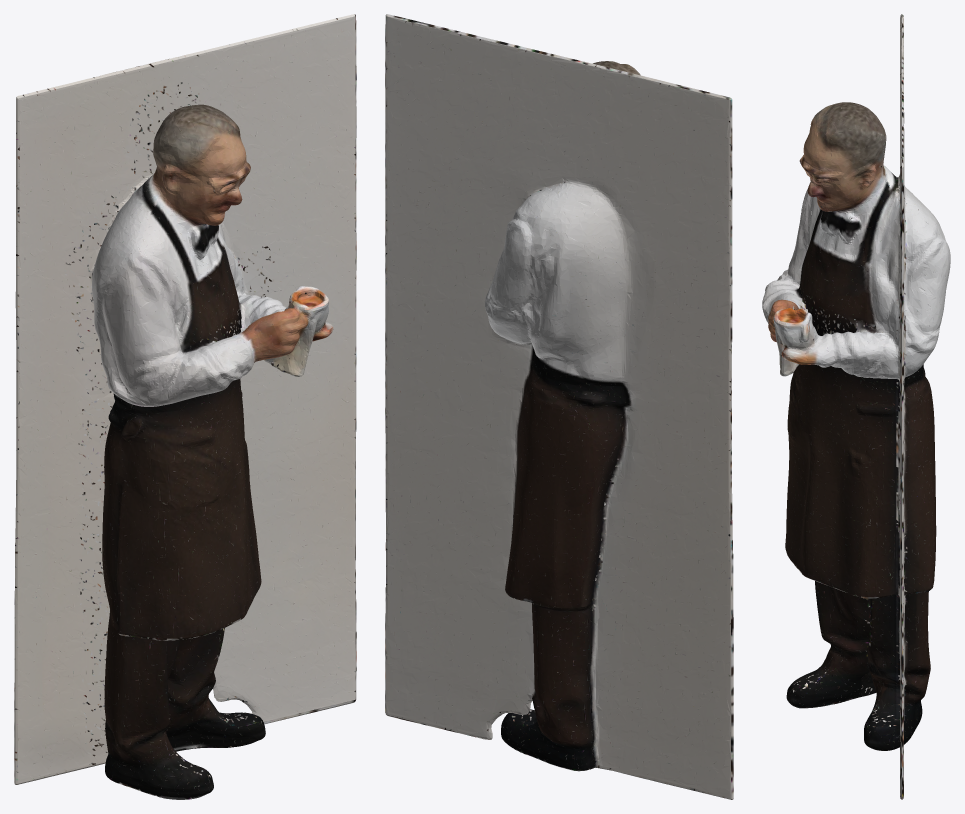
Rendered from manager.glb.
The picture shows the model from 3 angles, left to right: view 1: azimuth 30°, elevation 25°; view 2: azimuth 150°, elevation 25°; view 3: azimuth 270°, elevation 25°; orthographic projection. The views are drawn at different scales.
Visible parts, largest first — view 1: geometry_0; view 2: geometry_0; view 3: geometry_0.
Part boxes in pixels (x1=…): geometry_0: x1=14, y1=14, x2=356, y2=799; geometry_0: x1=385, y1=14, x2=733, y2=799; geometry_0: x1=762, y1=14, x2=950, y2=799.
Bounding box in the file's own units: 1.04 × 1.99 × 0.5365.
1 material, 1 textured.
